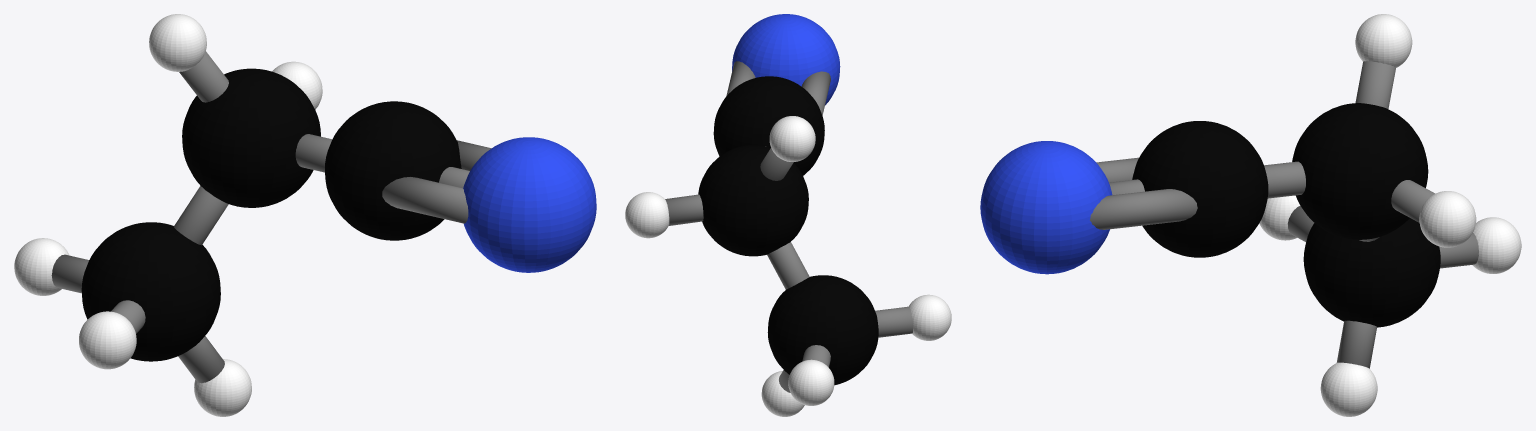
File: ACRILONITRILO.obj
3 views of the same model, side by side, from view 1: azimuth 30°, elevation 25°; view 2: azimuth 150°, elevation 25°; view 3: azimuth 270°, elevation 25° (orthographic). The views are drawn at different scales.
Parts seen in each view (by area): view 1: Carbon_ball_Sphere.001, Nitrogen_ball_Sphere.002, Hydrogen_ball_Sphere, Stick_Cylinder.009_Cylinder.009, Stick_Cylinder.003_Cylinder.003, Stick_Cylinder.004_Cylinder.004, Stick_Cylinder.001_Cylinder.001, Stick_Cylinder.006_Cylinder.006, Stick_Cylinder.005_Cylinder.005, Stick_Cylinder_Cylinder, Stick_Cylinder.008_Cylinder.008; view 2: Carbon_ball_Sphere.001, Hydrogen_ball_Sphere, Nitrogen_ball_Sphere.002, Stick_Cylinder.003_Cylinder.003, Stick_Cylinder.002_Cylinder.002, Stick_Cylinder_Cylinder, Stick_Cylinder.009_Cylinder.009, Stick_Cylinder.004_Cylinder.004, Stick_Cylinder.008_Cylinder.008, Stick_Cylinder.006_Cylinder.006; view 3: Carbon_ball_Sphere.001, Nitrogen_ball_Sphere.002, Hydrogen_ball_Sphere, Stick_Cylinder.008_Cylinder.008, Stick_Cylinder.004_Cylinder.004, Stick_Cylinder.001_Cylinder.001, Stick_Cylinder.005_Cylinder.005, Stick_Cylinder.002_Cylinder.002, Stick_Cylinder.006_Cylinder.006, Stick_Cylinder.009_Cylinder.009, Stick_Cylinder_Cylinder.
Part boxes in pixels (x1=…): Carbon_ball_Sphere.001: x1=81, y1=68, x2=461, y2=361; Nitrogen_ball_Sphere.002: x1=463, y1=137, x2=596, y2=272; Hydrogen_ball_Sphere: x1=14, y1=14, x2=322, y2=416; Stick_Cylinder.009_Cylinder.009: x1=382, y1=177, x2=468, y2=223; Stick_Cylinder.003_Cylinder.003: x1=173, y1=186, x2=228, y2=245; Stick_Cylinder.004_Cylinder.004: x1=179, y1=51, x2=228, y2=102; Stick_Cylinder.001_Cylinder.001: x1=178, y1=336, x2=224, y2=383; Stick_Cylinder.006_Cylinder.006: x1=51, y1=254, x2=88, y2=293; Stick_Cylinder.005_Cylinder.005: x1=295, y1=134, x2=332, y2=172; Stick_Cylinder_Cylinder: x1=111, y1=300, x2=145, y2=333; Stick_Cylinder.008_Cylinder.008: x1=457, y1=140, x2=491, y2=170; Carbon_ball_Sphere.001: x1=698, y1=76, x2=878, y2=385; Hydrogen_ball_Sphere: x1=625, y1=116, x2=951, y2=416; Nitrogen_ball_Sphere.002: x1=732, y1=14, x2=840, y2=105; Stick_Cylinder.003_Cylinder.003: x1=767, y1=242, x2=809, y2=289; Stick_Cylinder.002_Cylinder.002: x1=665, y1=194, x2=703, y2=225; Stick_Cylinder_Cylinder: x1=875, y1=306, x2=912, y2=337; Stick_Cylinder.009_Cylinder.009: x1=801, y1=71, x2=830, y2=115; Stick_Cylinder.004_Cylinder.004: x1=760, y1=148, x2=793, y2=180; Stick_Cylinder.008_Cylinder.008: x1=726, y1=61, x2=755, y2=95; Stick_Cylinder.006_Cylinder.006: x1=802, y1=345, x2=830, y2=367; Carbon_ball_Sphere.001: x1=1132, y1=103, x2=1440, y2=327; Nitrogen_ball_Sphere.002: x1=980, y1=141, x2=1112, y2=274; Hydrogen_ball_Sphere: x1=1259, y1=14, x2=1521, y2=416; Stick_Cylinder.008_Cylinder.008: x1=1090, y1=189, x2=1197, y2=229; Stick_Cylinder.004_Cylinder.004: x1=1355, y1=61, x2=1395, y2=108; Stick_Cylinder.001_Cylinder.001: x1=1336, y1=320, x2=1376, y2=368; Stick_Cylinder.005_Cylinder.005: x1=1264, y1=161, x2=1305, y2=198; Stick_Cylinder.002_Cylinder.002: x1=1391, y1=180, x2=1435, y2=222; Stick_Cylinder.006_Cylinder.006: x1=1439, y1=233, x2=1478, y2=268; Stick_Cylinder.009_Cylinder.009: x1=1096, y1=157, x2=1138, y2=182; Stick_Cylinder_Cylinder: x1=1287, y1=205, x2=1314, y2=241.
Size of the model in its own units: 4.4 by 4.29 by 5.47.
